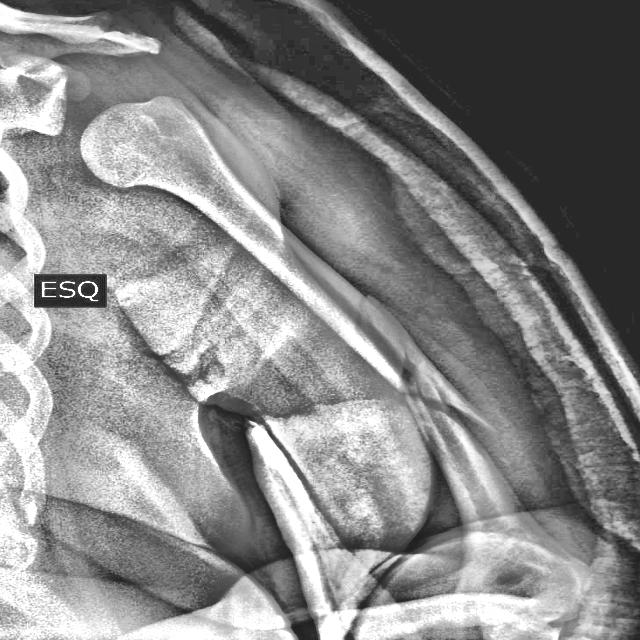line: (365, 551, 394, 581), (357, 296, 366, 315), (401, 349, 411, 362)
messed_up_angle: (398, 369, 497, 431)
